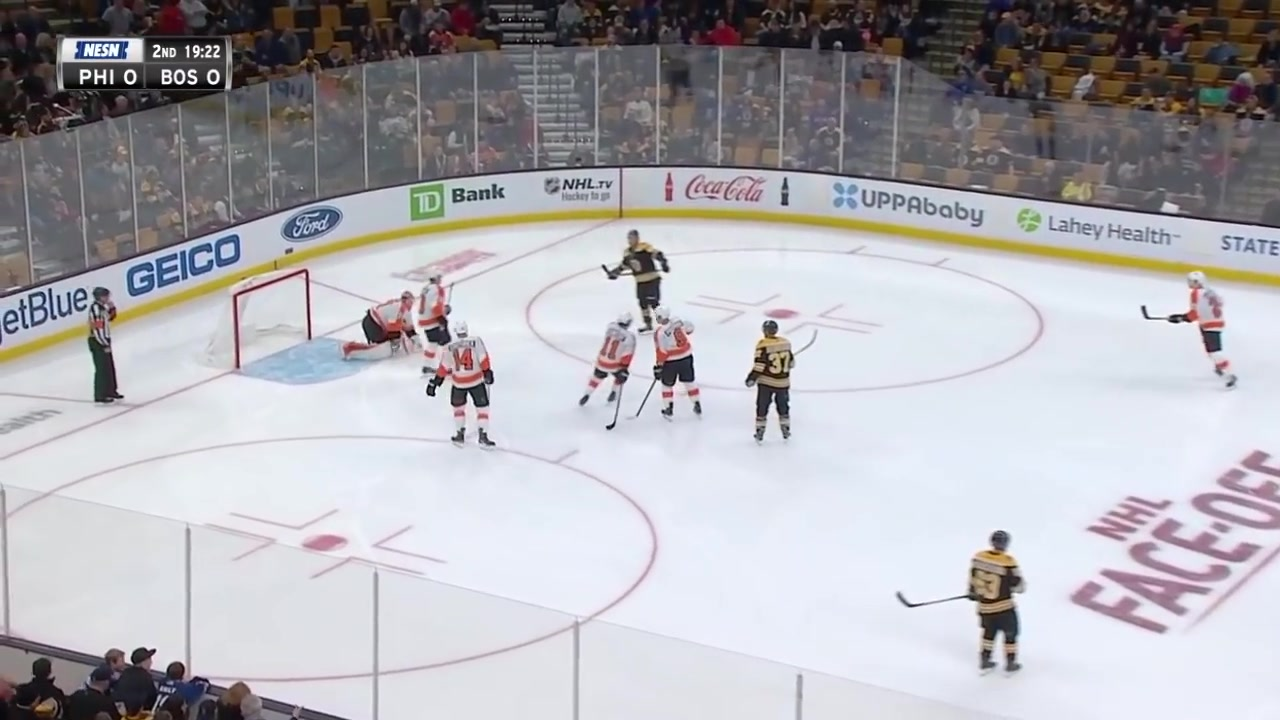Geico: (124, 233, 248, 307)
